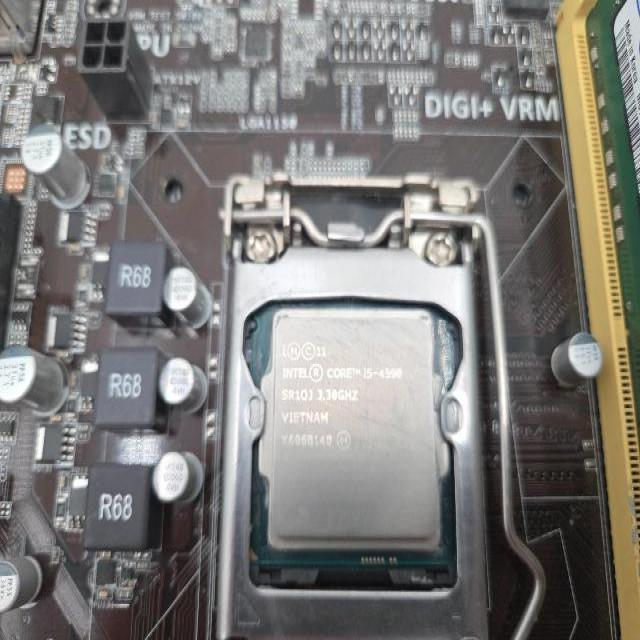CPU: (259, 309, 442, 556)
